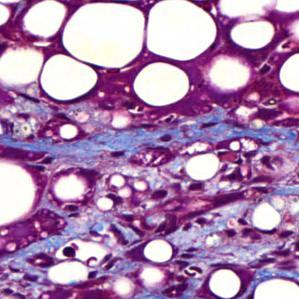steatosis: (65, 3, 144, 66), (144, 0, 218, 62), (37, 52, 99, 104), (133, 60, 192, 108), (209, 267, 244, 299), (184, 154, 226, 178)
